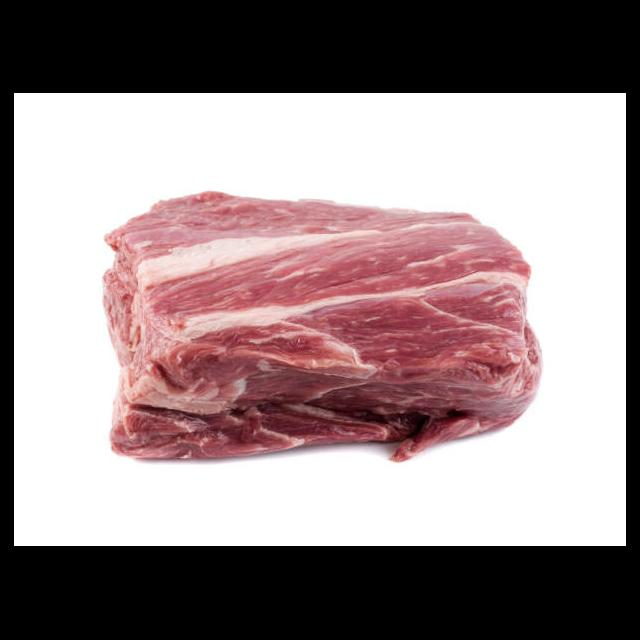beef: (100, 190, 543, 464)
